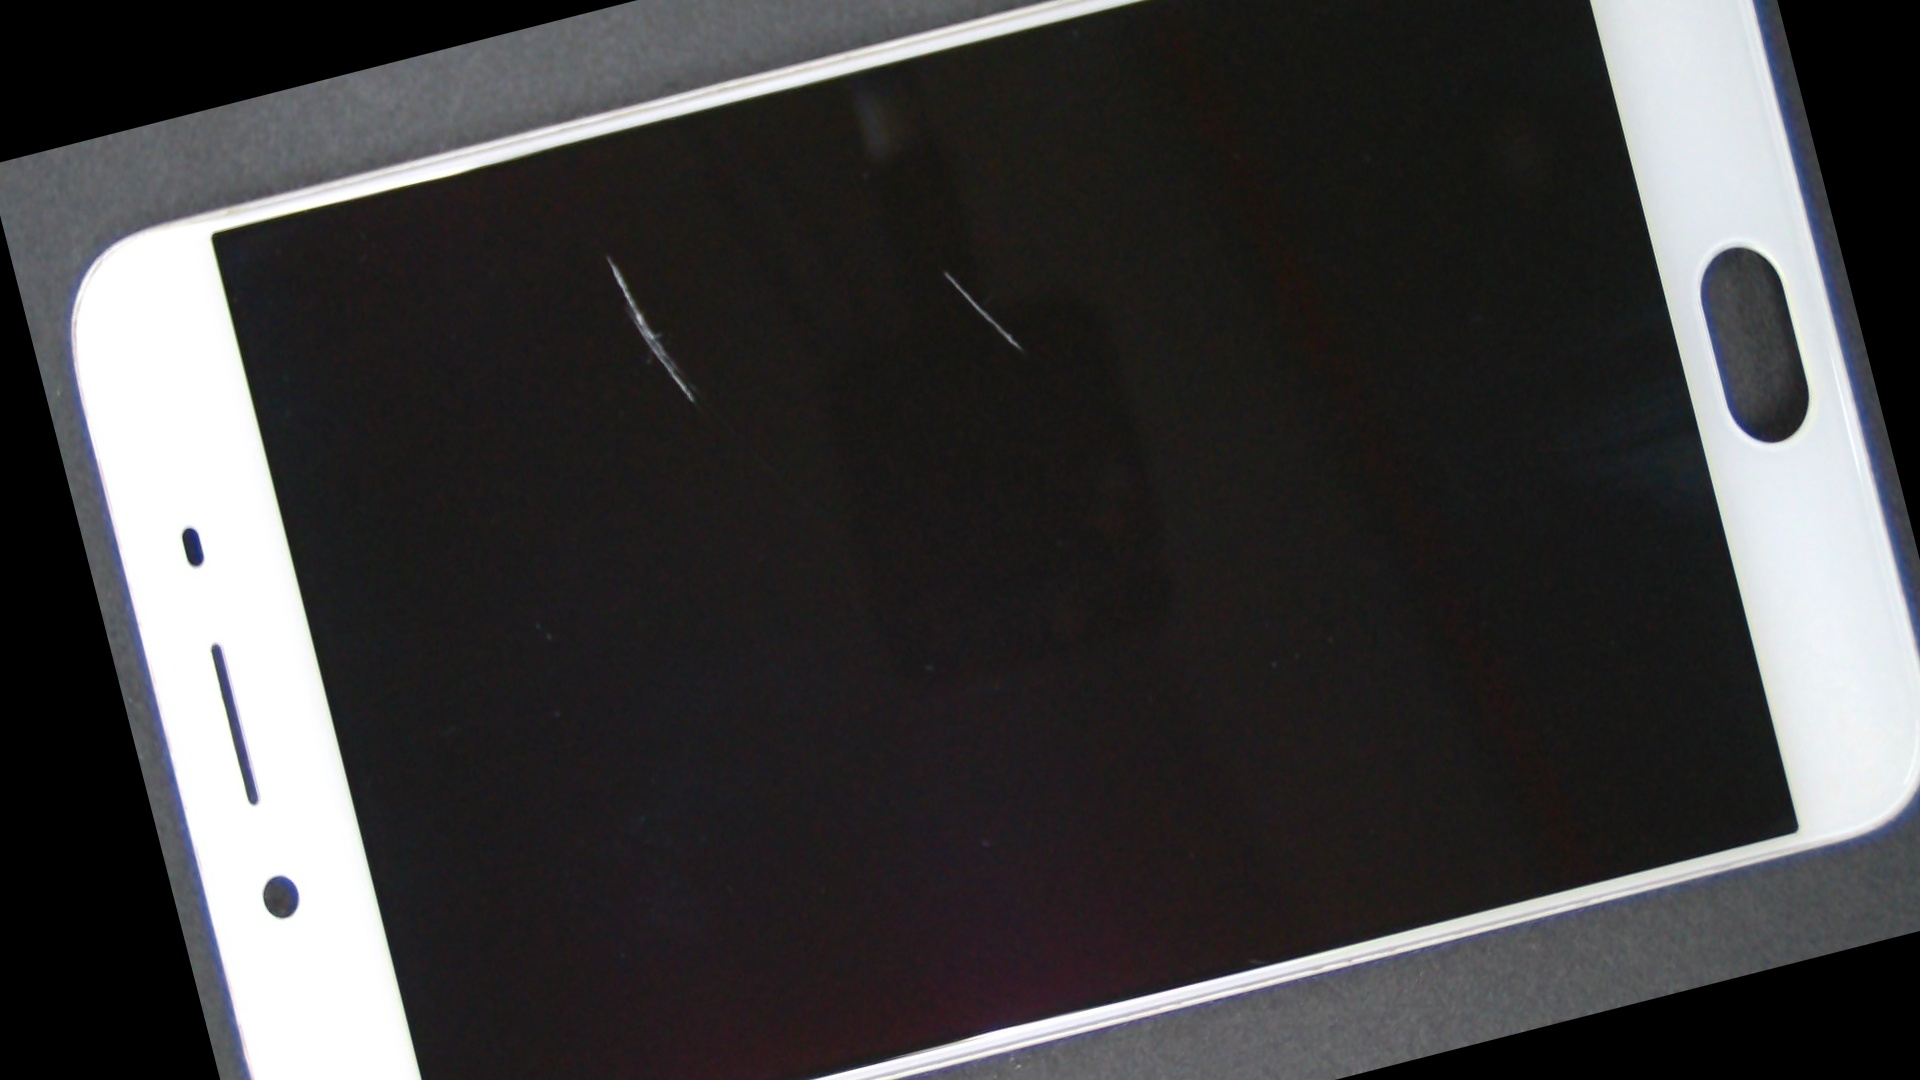oil: (465, 0, 1424, 550), (297, 67, 916, 447)
